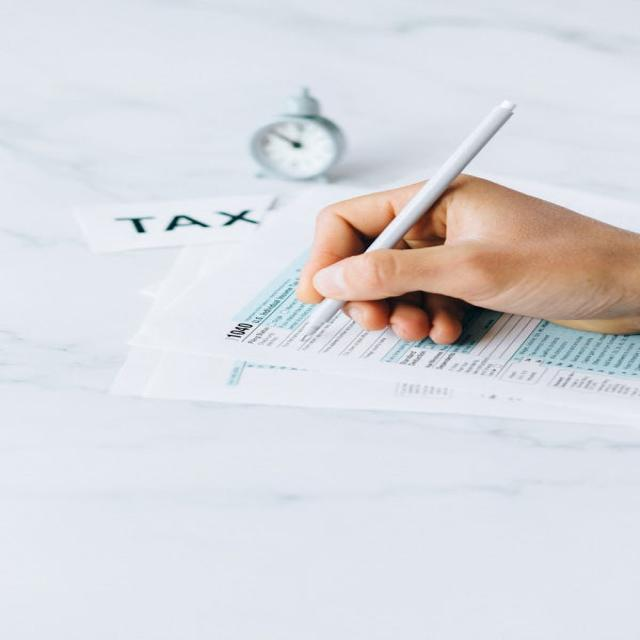pen: (267, 90, 533, 350)
